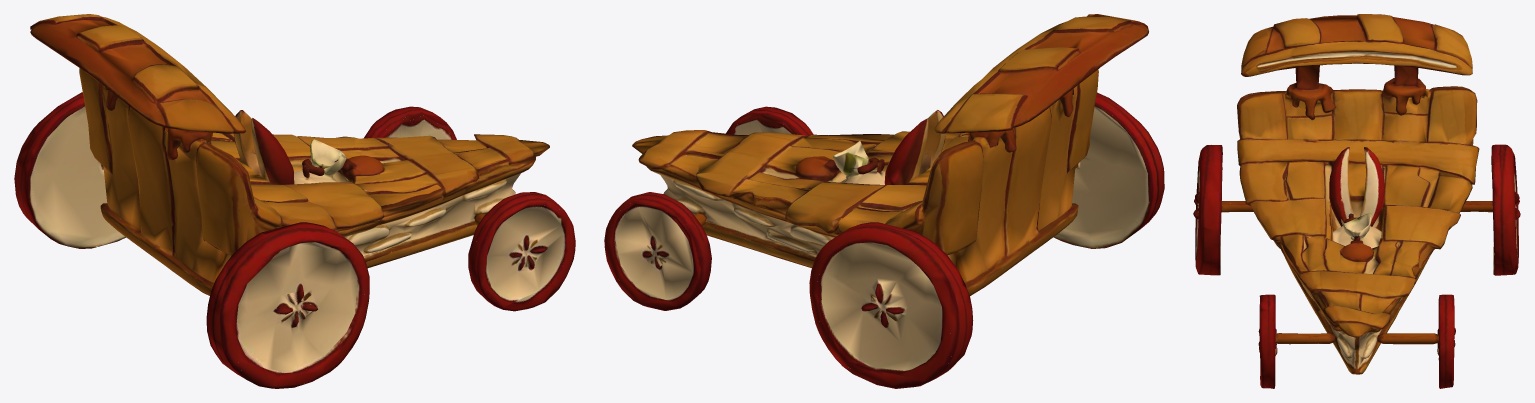
File: appeltaart.glb
3 renders of one model, left to right at view 1: azimuth 30°, elevation 25°; view 2: azimuth 150°, elevation 25°; view 3: azimuth 270°, elevation 25°, orthographic. The views are drawn at different scales.
Parts seen in each view (by area): view 1: tripo_node_3e6da7c1-ee02-41ab-a1aa-bdf561b6310f, Roue_0_maillage, Roue_2_maillage, Roue_1_maillage, Roue_3_maillage; view 2: tripo_node_3e6da7c1-ee02-41ab-a1aa-bdf561b6310f, Roue_1_maillage, Roue_3_maillage, Roue_0_maillage, Roue_2_maillage; view 3: tripo_node_3e6da7c1-ee02-41ab-a1aa-bdf561b6310f, Roue_1_maillage, Roue_0_maillage.
Part boxes in pixels (x1,y1,x2,y2): tripo_node_3e6da7c1-ee02-41ab-a1aa-bdf561b6310f: [14, 14, 575, 388]; Roue_0_maillage: [220, 234, 364, 388]; Roue_2_maillage: [468, 201, 571, 309]; Roue_1_maillage: [32, 107, 123, 246]; Roue_3_maillage: [378, 115, 450, 139]; tripo_node_3e6da7c1-ee02-41ab-a1aa-bdf561b6310f: [604, 14, 1164, 386]; Roue_1_maillage: [813, 235, 958, 388]; Roue_3_maillage: [604, 201, 711, 310]; Roue_0_maillage: [1054, 107, 1149, 248]; Roue_2_maillage: [734, 115, 813, 134]; tripo_node_3e6da7c1-ee02-41ab-a1aa-bdf561b6310f: [1196, 14, 1517, 388]; Roue_1_maillage: [1479, 150, 1520, 273]; Roue_0_maillage: [1193, 149, 1231, 272].
Size of the model in its own units: 2.4 by 1.51 by 1.91.
Materials: 1 (1 with a texture image).
